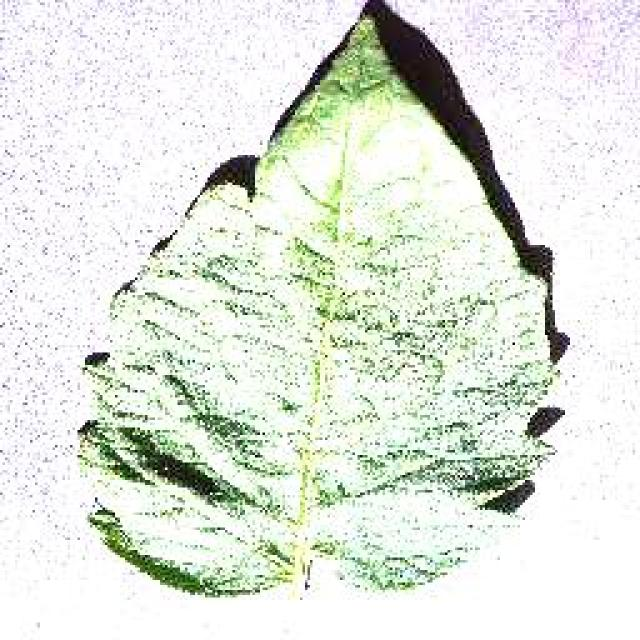Tomato___healthy: (70, 8, 564, 611)
